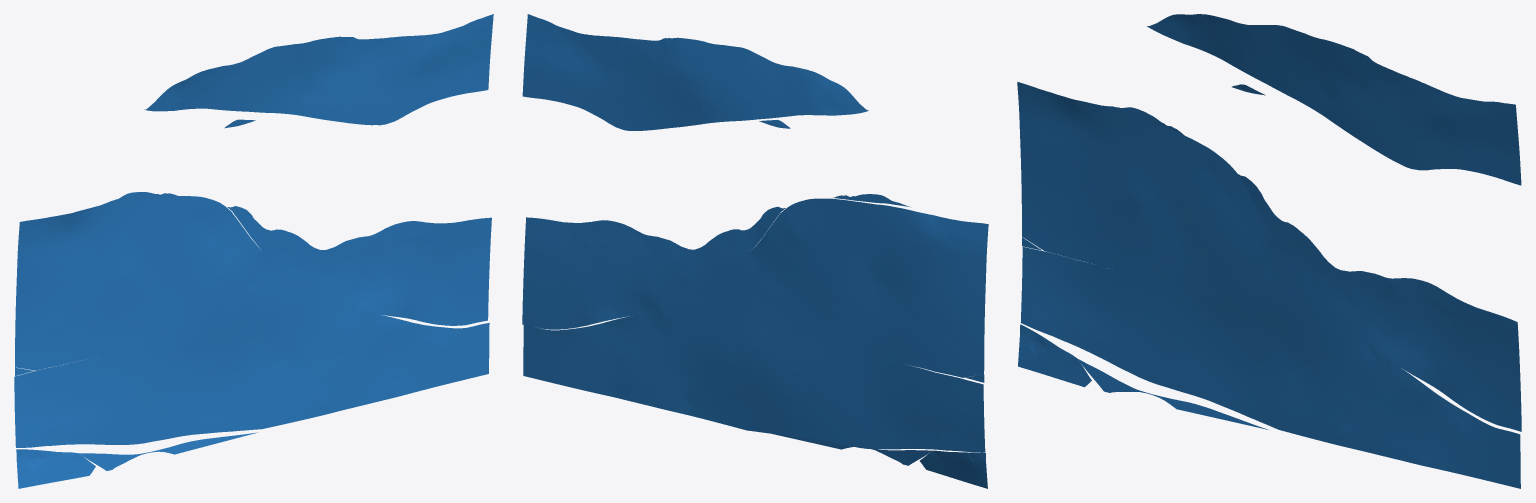
File: 04_GlasgowUpperCoal_50m_GGERFS_Predrill.gltf
The picture shows the model from 3 angles, left to right: view 1: azimuth 30°, elevation 25°; view 2: azimuth 150°, elevation 25°; view 3: azimuth 330°, elevation 25°; orthographic projection. The views are drawn at different scales.
Visible parts, largest first — view 1: 04_GLASGOWUPPERCOAL_50M_GGERFS_PREDRILL; view 2: 04_GLASGOWUPPERCOAL_50M_GGERFS_PREDRILL; view 3: 04_GLASGOWUPPERCOAL_50M_GGERFS_PREDRILL.
Part boxes in pixels (x1=…): 04_GLASGOWUPPERCOAL_50M_GGERFS_PREDRILL: x1=14, y1=14, x2=493, y2=488; 04_GLASGOWUPPERCOAL_50M_GGERFS_PREDRILL: x1=522, y1=14, x2=988, y2=488; 04_GLASGOWUPPERCOAL_50M_GGERFS_PREDRILL: x1=1017, y1=14, x2=1521, y2=488.
Size of the model in its own units: 5005 by 3891 by 161.
